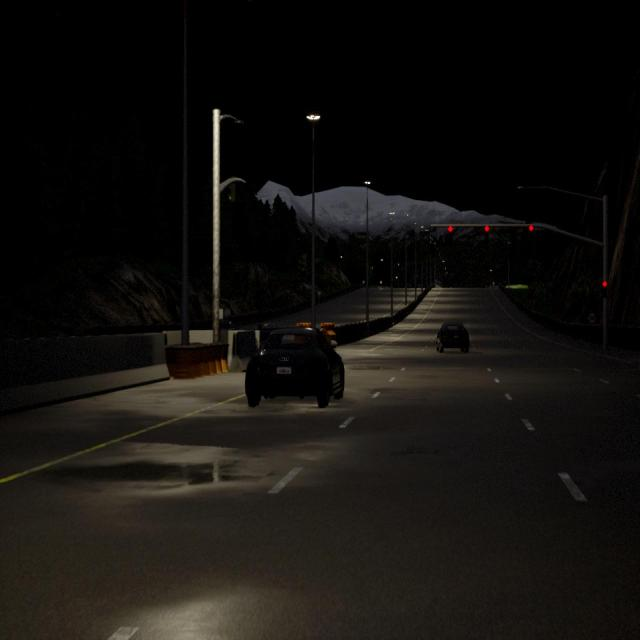Traffic_Signs: (588, 314, 596, 322), (225, 309, 230, 315), (317, 291, 321, 295)
Vehicle: (245, 326, 344, 406), (436, 320, 470, 354)
traffic_light: (229, 183, 236, 203), (484, 225, 490, 243), (602, 280, 608, 298), (448, 226, 453, 242), (529, 224, 533, 242)
